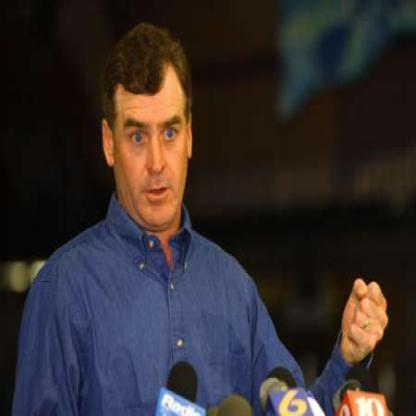face: (113, 43, 191, 231)
